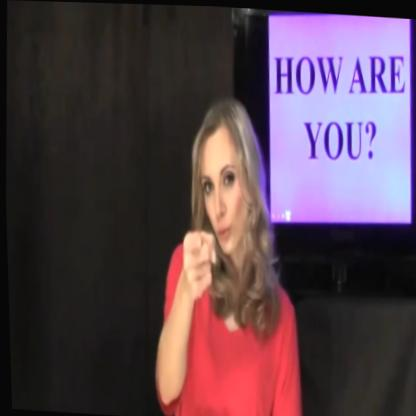HowAreYou: (162, 226, 273, 416)
